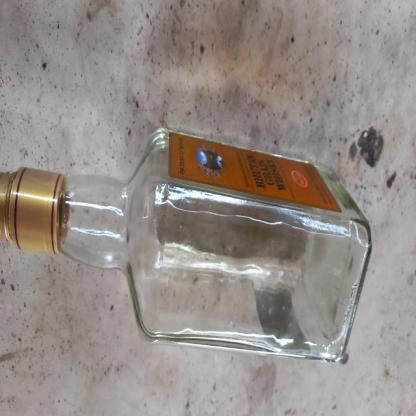Can: (0, 127, 374, 364)
